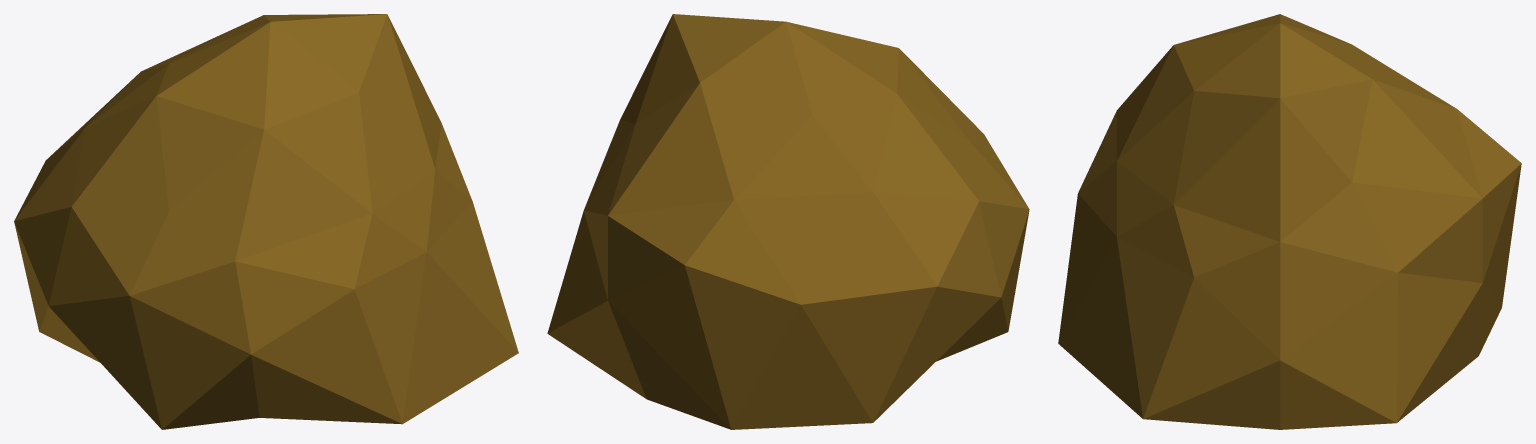
3 views of the same model, side by side, from view 1: azimuth 30°, elevation 25°; view 2: azimuth 150°, elevation 25°; view 3: azimuth 270°, elevation 25° (orthographic). The views are drawn at different scales.
Visible parts, largest first — view 1: GeoSphere010; view 2: GeoSphere010; view 3: GeoSphere010.
Boxes of the visible parts, x1=… form: GeoSphere010: x1=14, y1=14, x2=518, y2=429; GeoSphere010: x1=547, y1=14, x2=1029, y2=429; GeoSphere010: x1=1058, y1=14, x2=1521, y2=429.
Bounding box in the file's own units: 20.62 × 14.98 × 20.
